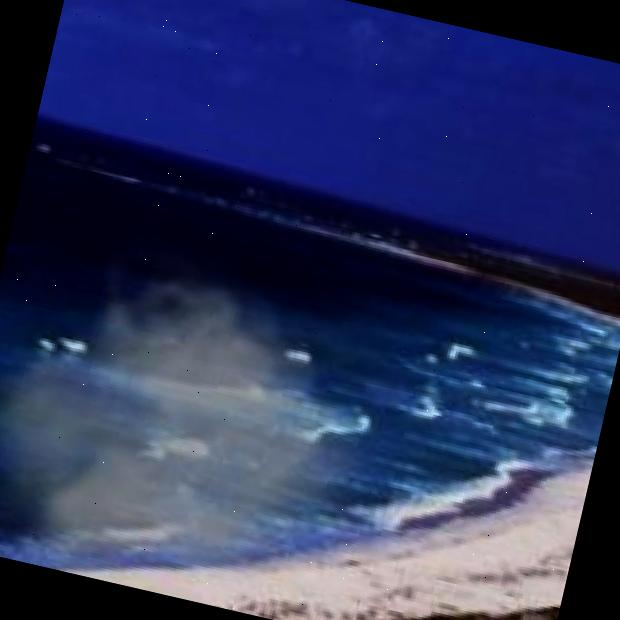smoke: (0, 197, 423, 620)
